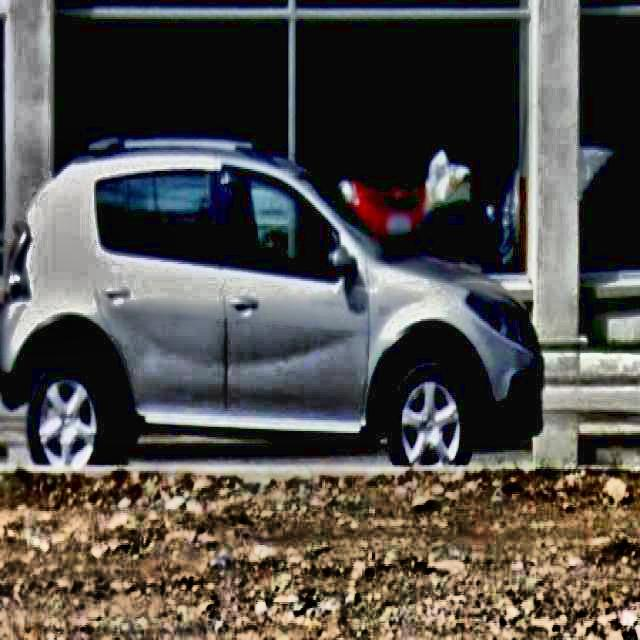carro: (2, 133, 550, 471)
